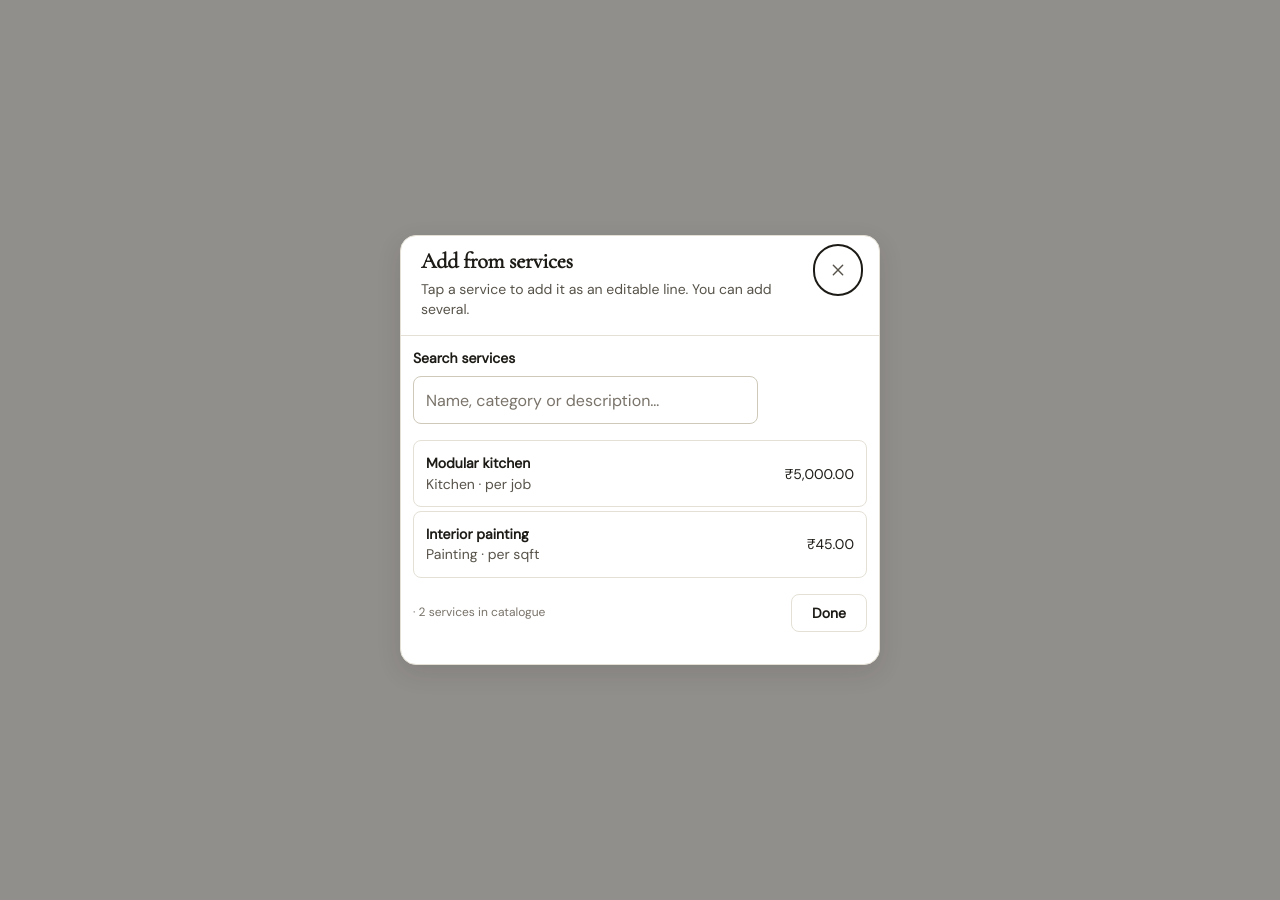
Test case: ServicePicker — search › filters the list through the shared hook
The image size is (1280, 900).
Type "painting" into the field labelled "Search services".
click(585, 400); type("painting")  # box [413, 376, 758, 424]
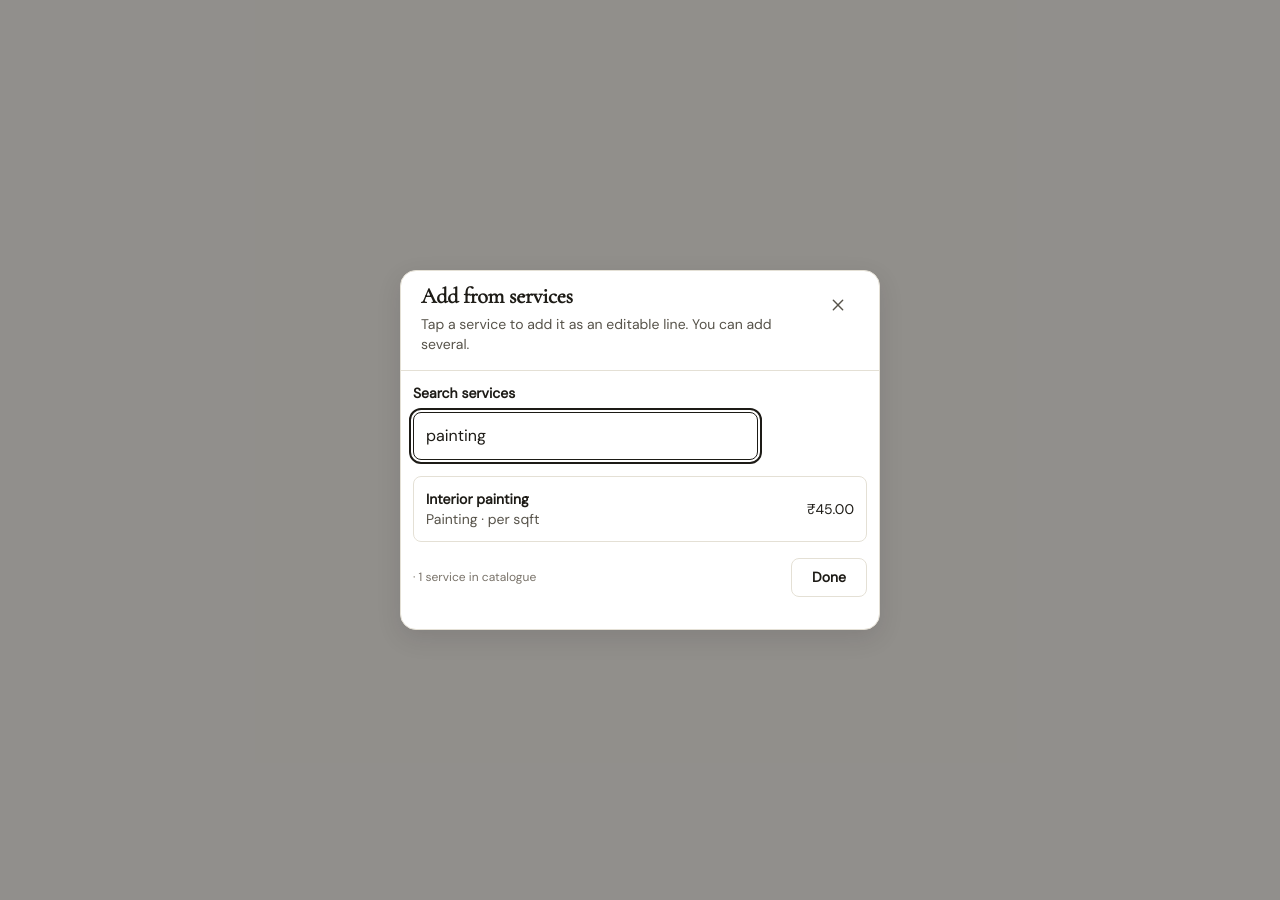
Expected: the button "Interior painting Painting · per sqft ₹45.00" is shown, [413, 476, 867, 542]
Now the button "Modular kitchen" is gone
